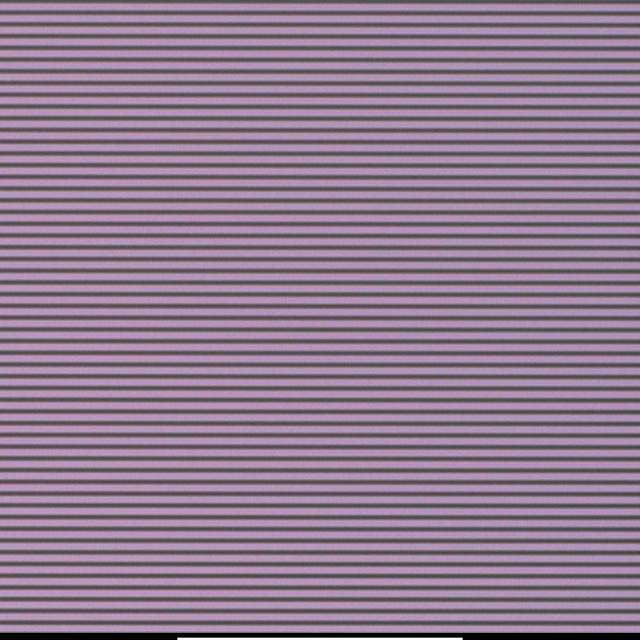nonvisual: (273, 316, 283, 328)
